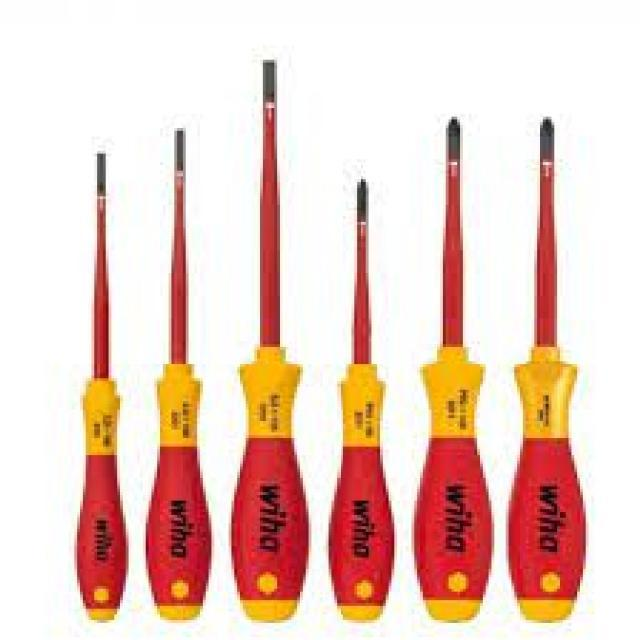screwdriver: (228, 55, 312, 628), (410, 105, 496, 623), (504, 114, 587, 623), (322, 176, 398, 626), (146, 128, 214, 623), (70, 151, 130, 626)
